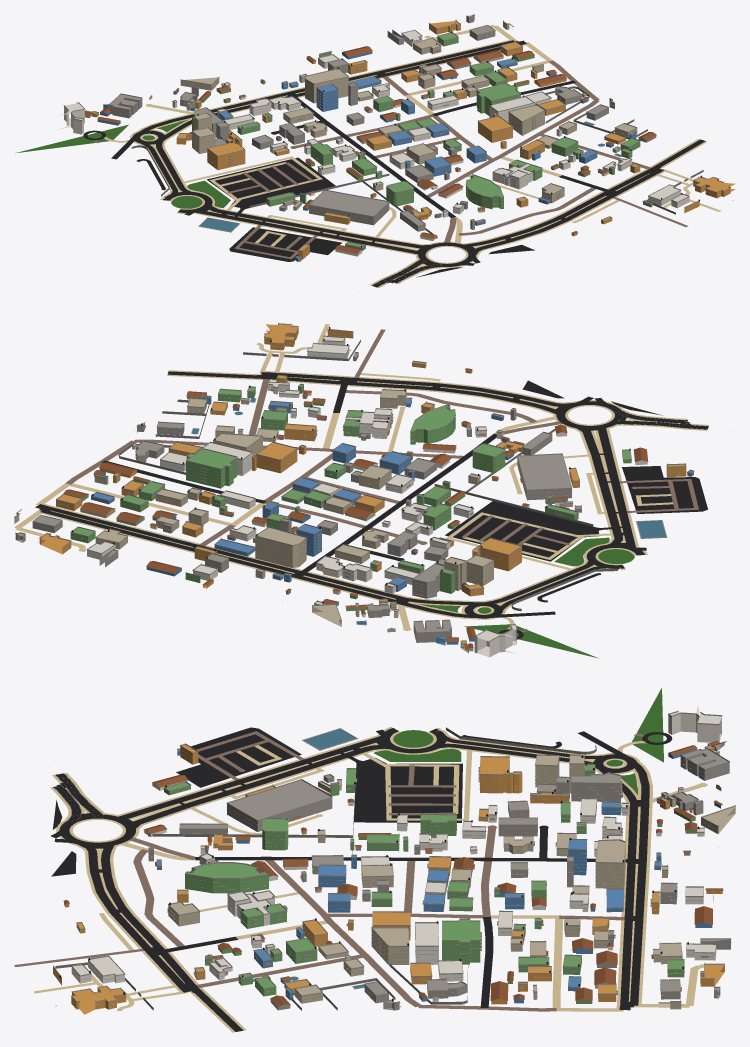
The model's file is zone_t1_0.glb.
The picture shows the model from 3 angles, top to bottom: view 1: azimuth 30°, elevation 25°; view 2: azimuth 150°, elevation 25°; view 3: azimuth 270°, elevation 25°; orthographic projection. The views are drawn at different scales.
Parts seen in each view (by area): view 1: parapet_t1_0, route_primary_bitume_t1_0, bld_peinture_ecaillee_t1_0-col, bld_peinture_vert_t1_0-col, bld_beton_t1_0-col, bld_peinture_ocre_t1_0-col, bld_peinture_blanc_t1_0-col, accotement_t1_0, zone_parking_t1_0, bld_peinture_bleu_t1_0-col, toit_tole_t1_0, route_residential_paves_t1_0 (+10 smaller); view 2: parapet_t1_0, route_primary_bitume_t1_0, bld_peinture_vert_t1_0-col, bld_peinture_ecaillee_t1_0-col, bld_beton_t1_0-col, bld_peinture_blanc_t1_0-col, bld_peinture_ocre_t1_0-col, accotement_t1_0, zone_parking_t1_0, toit_tole_t1_0, bld_peinture_bleu_t1_0-col, bandeau_t1_0 (+10 smaller); view 3: route_primary_bitume_t1_0, parapet_t1_0, bld_beton_t1_0-col, bld_peinture_vert_t1_0-col, bld_peinture_ecaillee_t1_0-col, accotement_t1_0, bld_peinture_blanc_t1_0-col, zone_parking_t1_0, bld_peinture_ocre_t1_0-col, route_residential_paves_t1_0, toit_tole_t1_0, bld_peinture_bleu_t1_0-col (+10 smaller).
Part boxes in pixels (<box>): parapet_t1_0: <box>63,14,730,259</box>; route_primary_bitume_t1_0: <box>132,40,705,266</box>; bld_peinture_ecaillee_t1_0-col: <box>85,22,637,212</box>; bld_peinture_vert_t1_0-col: <box>192,33,640,250</box>; bld_beton_t1_0-col: <box>91,15,656,231</box>; bld_peinture_ocre_t1_0-col: <box>91,21,735,259</box>; bld_peinture_blanc_t1_0-col: <box>172,30,689,256</box>; accotement_t1_0: <box>130,40,707,287</box>; zone_parking_t1_0: <box>206,157,534,277</box>; bld_peinture_bleu_t1_0-col: <box>97,51,636,261</box>; toit_tole_t1_0: <box>85,46,656,254</box>; route_residential_paves_t1_0: <box>290,60,651,242</box>; parapet_t1_0: <box>14,323,694,644</box>; route_primary_bitume_t1_0: <box>35,371,644,618</box>; bld_peinture_vert_t1_0-col: <box>70,384,631,611</box>; bld_peinture_ecaillee_t1_0-col: <box>14,390,572,651</box>; bld_beton_t1_0-col: <box>15,353,581,653</box>; bld_peinture_blanc_t1_0-col: <box>87,336,647,618</box>; bld_peinture_ocre_t1_0-col: <box>39,324,686,644</box>; accotement_t1_0: <box>35,370,709,619</box>; zone_parking_t1_0: <box>445,380,707,561</box>; toit_tole_t1_0: <box>63,368,648,650</box>; bld_peinture_bleu_t1_0-col: <box>91,396,693,645</box>; bandeau_t1_0: <box>15,330,685,640</box>; route_primary_bitume_t1_0: <box>59,728,649,1031</box>; parapet_t1_0: <box>53,710,735,1004</box>; bld_beton_t1_0-col: <box>91,742,730,1010</box>; bld_peinture_vert_t1_0-col: <box>164,765,713,1003</box>; bld_peinture_ecaillee_t1_0-col: <box>168,744,735,1009</box>; accotement_t1_0: <box>50,727,652,1032</box>; bld_peinture_blanc_t1_0-col: <box>71,780,716,1001</box>; zone_parking_t1_0: <box>51,727,462,876</box>; bld_peinture_ocre_t1_0-col: <box>53,745,724,1014</box>; route_residential_paves_t1_0: <box>129,825,624,1011</box>; toit_tole_t1_0: <box>63,741,726,1007</box>; bld_peinture_bleu_t1_0-col: <box>157,749,720,1003</box>.
Bounding box in the file's own units: 615 × 26 × 544.
